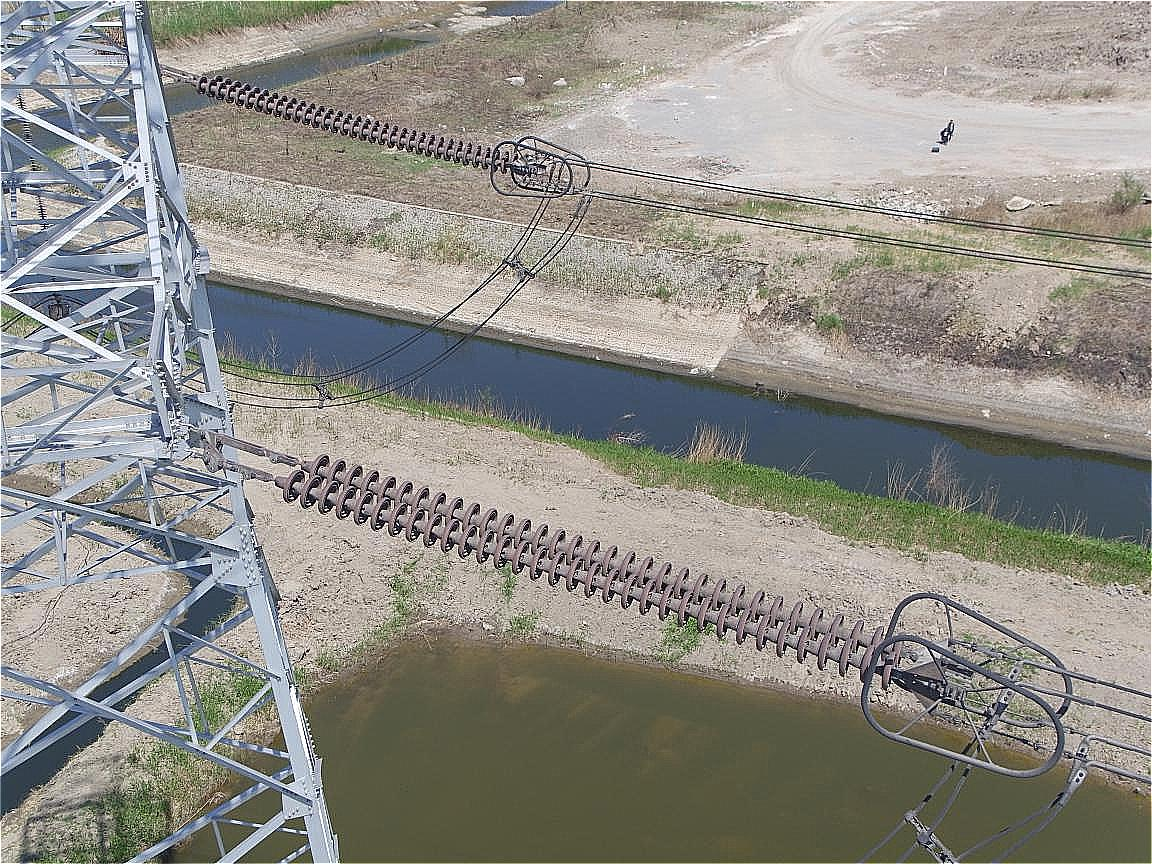insultor1: (265, 437, 954, 707), (170, 56, 564, 204)
